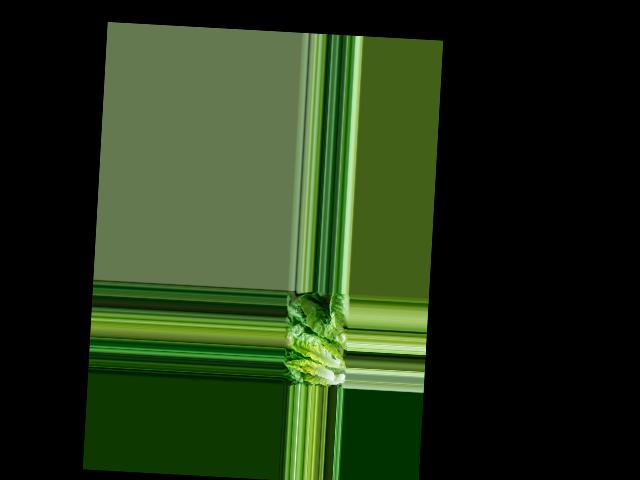lettuce: (286, 322, 349, 386)
